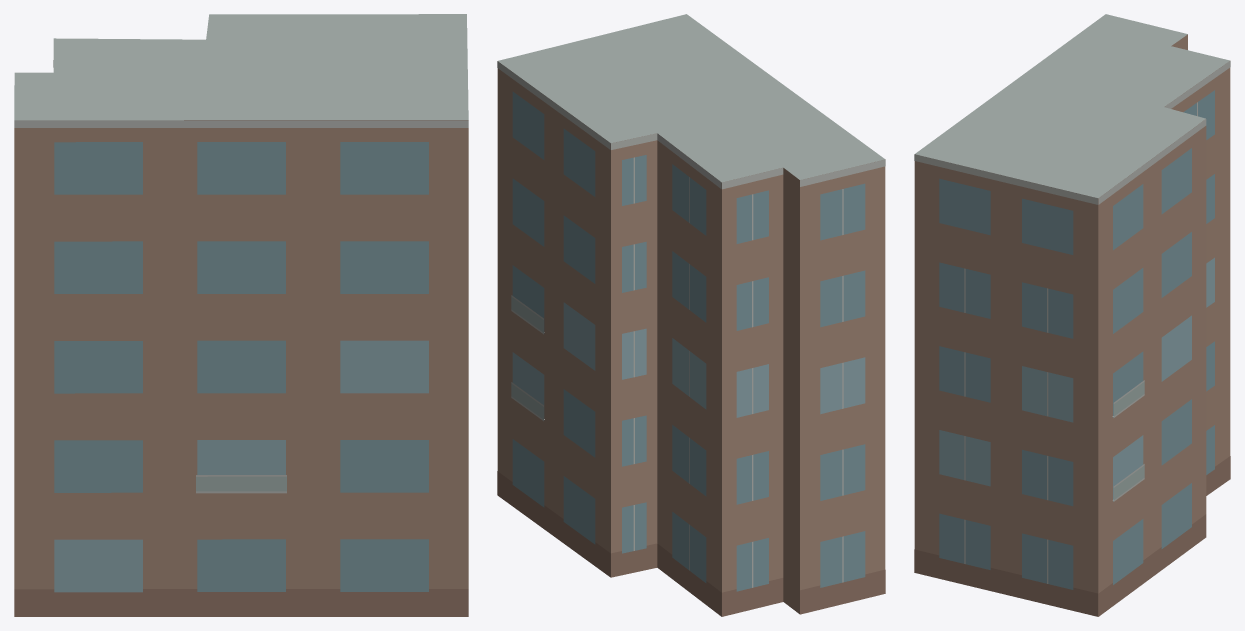
Rendered from survey-upis-32770132.glb.
3 renders of one model, left to right at view 1: azimuth 30°, elevation 25°; view 2: azimuth 150°, elevation 25°; view 3: azimuth 270°, elevation 25°, orthographic. The views are drawn at different scales.
Visible parts, largest first — view 1: survey-upis-32770132.tmp; view 2: survey-upis-32770132.tmp; view 3: survey-upis-32770132.tmp.
Part boxes in pixels (x1,y1,x2,y2): survey-upis-32770132.tmp: (14, 14, 468, 616); survey-upis-32770132.tmp: (497, 14, 885, 616); survey-upis-32770132.tmp: (914, 14, 1230, 616).
Size of the model in its own units: 14.36 by 15.2 by 10.4.
